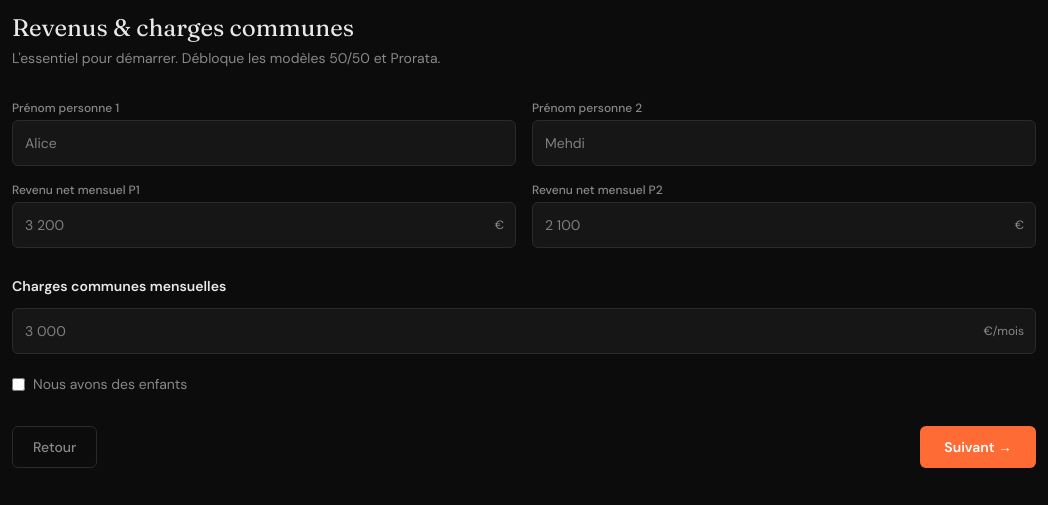
it: Tier1Incomes › shows P1 income error after failed submit attempt
What coordinates should you click on to do the following:
click the button "Suivant →"
I would click on:
 (978, 447)
Its box is x1=920 y1=426 x2=1036 y2=468.
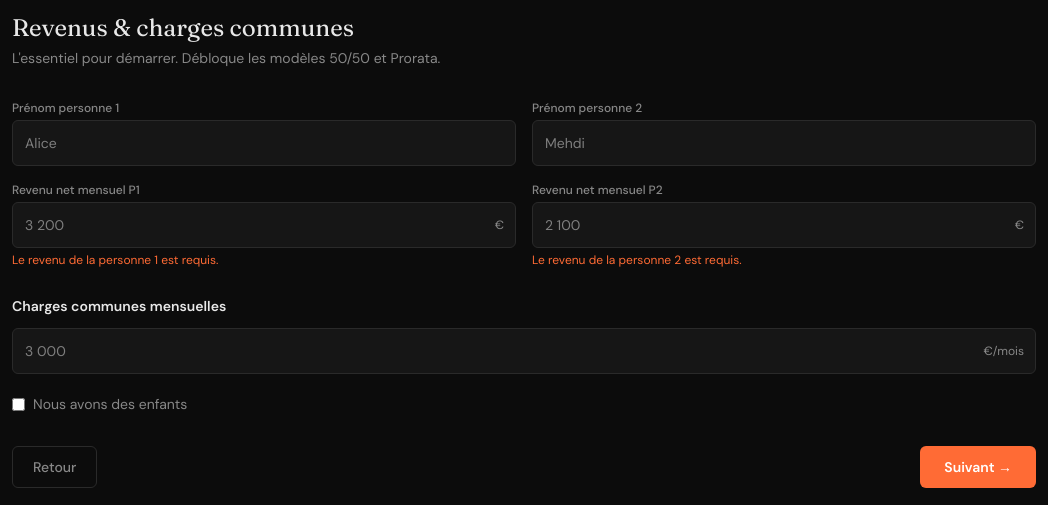
Expected: the text "Le revenu de la personne 1 est requis." is shown, x1=12 y1=252 x2=218 y2=268
